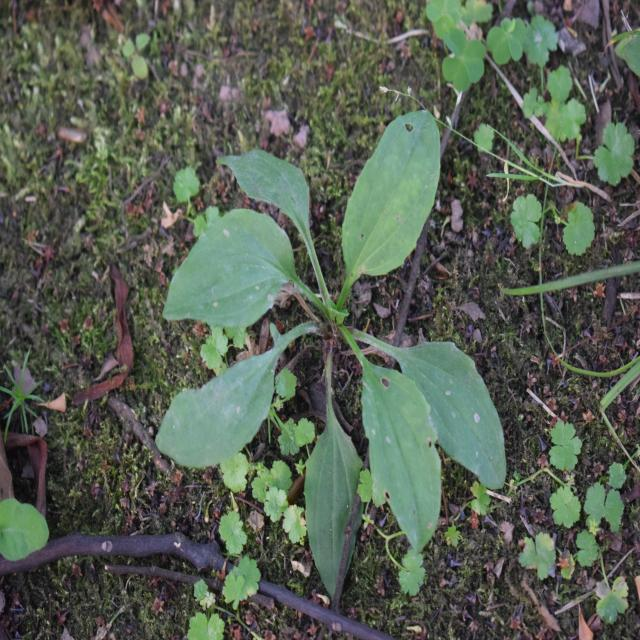plantain: (147, 122, 512, 532)
